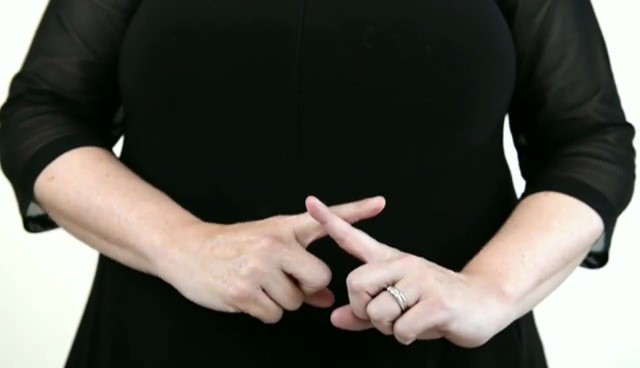X: (178, 185, 488, 355)
